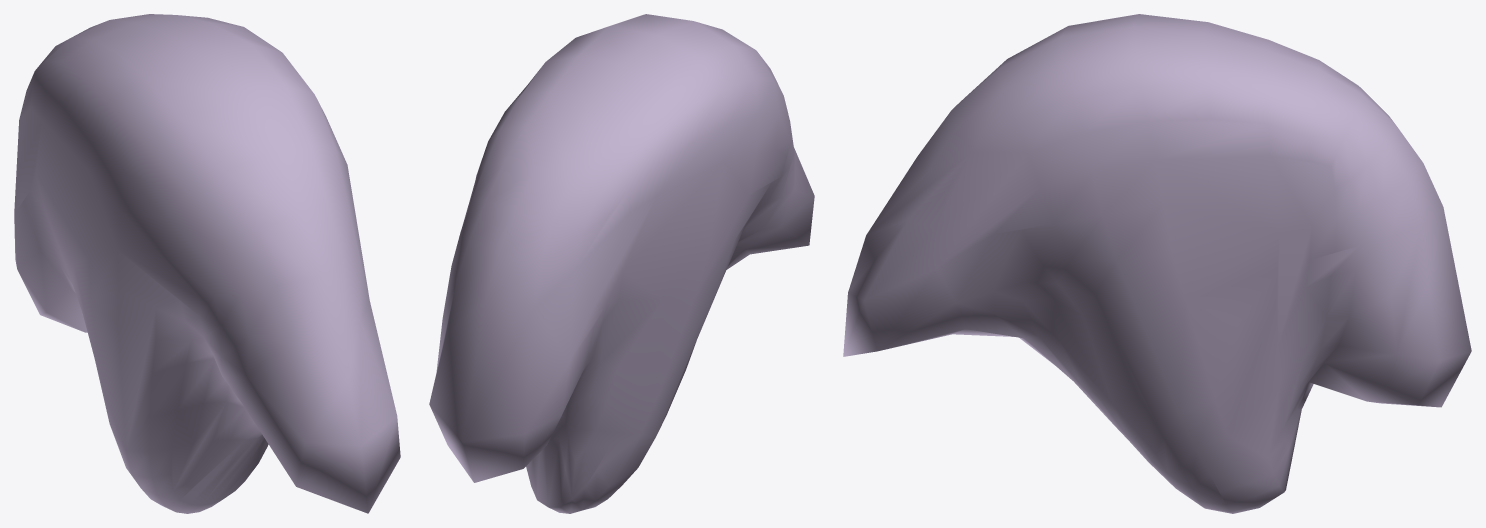
Rendered from Tail_18.fbx.
The picture shows the model from 3 angles, left to right: view 1: azimuth 30°, elevation 25°; view 2: azimuth 150°, elevation 25°; view 3: azimuth 270°, elevation 25°; orthographic projection. The views are drawn at different scales.
Visible parts, largest first — view 1: Tail_18; view 2: Tail_18; view 3: Tail_18.
Boxes of the visible parts, box(x1,y1,x2,y2) form: Tail_18: box(14, 14, 400, 513); Tail_18: box(429, 14, 814, 513); Tail_18: box(843, 14, 1471, 513).
Bounding box in the file's own units: 30.38 × 68.34 × 83.53.
